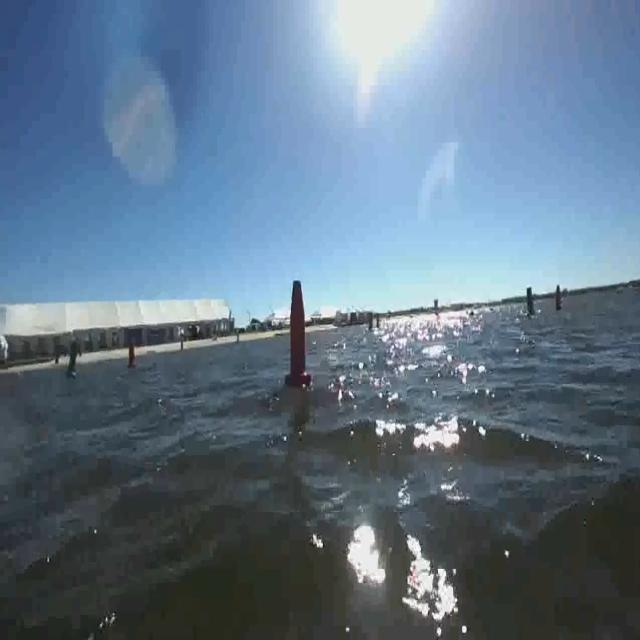green-column-buoy: (65, 339, 80, 378), (524, 286, 536, 316)
red-column-buoy: (286, 275, 313, 388), (128, 341, 139, 370), (554, 284, 564, 312)
